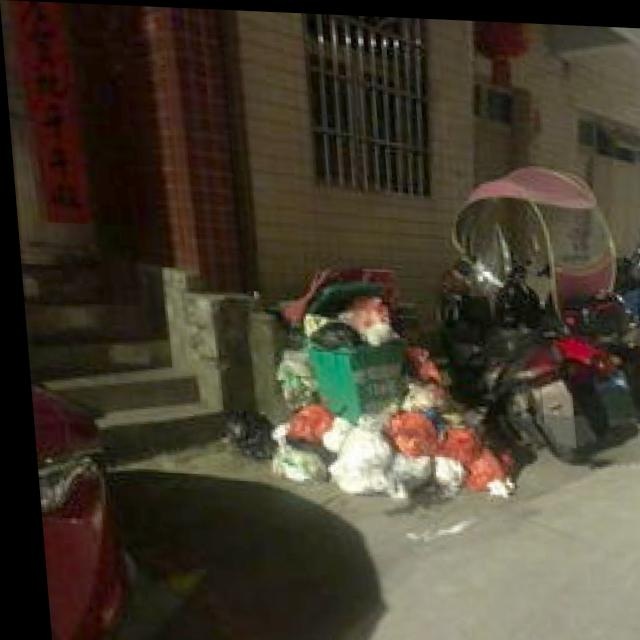garbage: (217, 336, 510, 499)
overflow: (302, 296, 402, 422)
